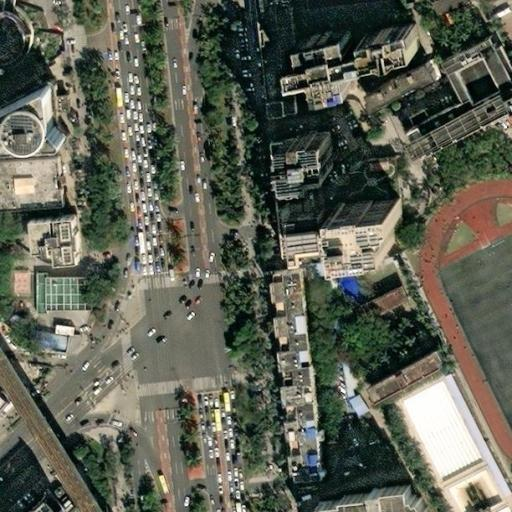building: (382, 376, 512, 512), (396, 56, 512, 167), (300, 31, 428, 103), (264, 143, 306, 254), (370, 356, 446, 408), (337, 200, 398, 257), (306, 487, 415, 512), (39, 227, 91, 274), (282, 204, 328, 257), (0, 159, 48, 208), (274, 135, 320, 185), (0, 1, 34, 63), (347, 288, 402, 325), (39, 280, 85, 312), (449, 40, 489, 71), (282, 456, 314, 486), (332, 273, 356, 305), (278, 421, 311, 444), (269, 347, 302, 369), (274, 383, 306, 405), (262, 278, 293, 300), (272, 366, 304, 386), (266, 314, 296, 335), (267, 332, 298, 351), (263, 297, 294, 316), (280, 441, 312, 459), (277, 406, 309, 424), (339, 393, 360, 416), (333, 363, 350, 391), (29, 275, 39, 315), (261, 269, 291, 281), (27, 497, 48, 512), (400, 113, 419, 129), (312, 286, 330, 302), (47, 326, 68, 338), (326, 321, 336, 338), (505, 49, 512, 65), (338, 390, 345, 400)
